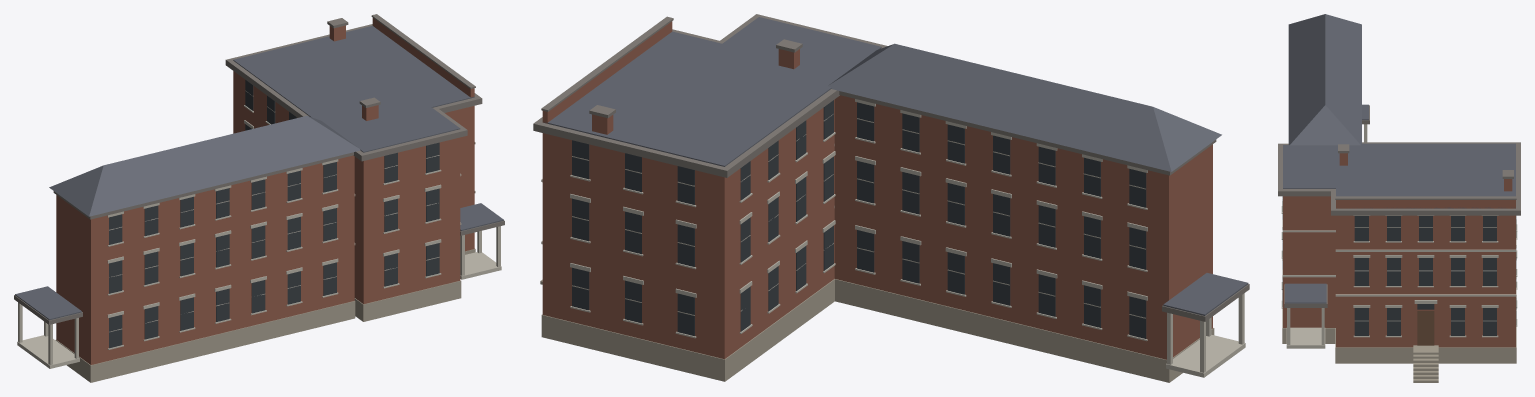
File: dexter_house_1721_prairie__draft_1904.glb
The picture shows the model from 3 angles, left to right: view 1: azimuth 30°, elevation 25°; view 2: azimuth 150°, elevation 25°; view 3: azimuth 270°, elevation 25°; orthographic projection. The views are drawn at different scales.
Parts seen in each view (by area): view 1: dexter_house_1721_prairie__draft_1904; view 2: dexter_house_1721_prairie__draft_1904; view 3: dexter_house_1721_prairie__draft_1904.
Boxes of the visible parts, x1=… form: dexter_house_1721_prairie__draft_1904: x1=14, y1=14, x2=504, y2=382; dexter_house_1721_prairie__draft_1904: x1=533, y1=14, x2=1249, y2=382; dexter_house_1721_prairie__draft_1904: x1=1278, y1=14, x2=1520, y2=382.
Size of the model in its own units: 36.45 by 14.13 by 17.2.
